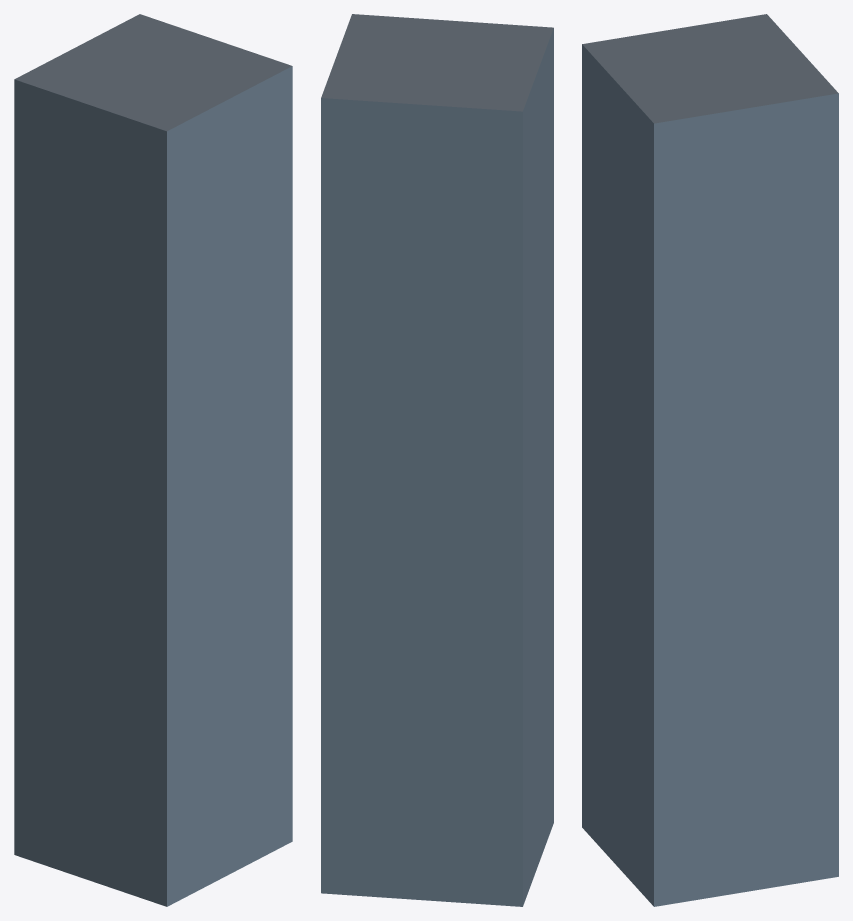
3 views of the same model, side by side, from view 1: azimuth 30°, elevation 25°; view 2: azimuth 150°, elevation 25°; view 3: azimuth 270°, elevation 25° (orthographic). The views are drawn at different scales.
Visible parts, largest first — view 1: HP-w380340014; view 2: HP-w380340014; view 3: HP-w380340014.
Boxes of the visible parts, bbox=[...] form: HP-w380340014: bbox=[14, 14, 292, 906]; HP-w380340014: bbox=[321, 14, 553, 906]; HP-w380340014: bbox=[582, 14, 838, 906].
Bounding box in the file's own units: 36.49 × 122 × 36.12.
